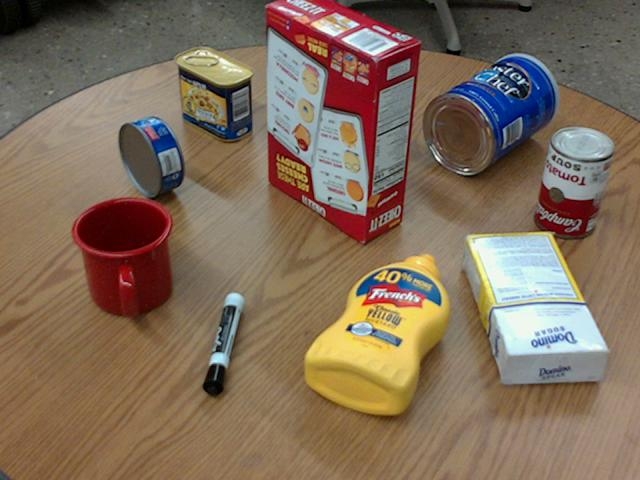cracker_box: (265, 0, 419, 241)
gelatin_box: (312, 64, 396, 121)
large_marker: (201, 292, 242, 395)
master_chef_can: (421, 53, 556, 173)
mug: (71, 197, 173, 317)
mustard_bottle: (303, 253, 448, 415)
potted_meat_can: (173, 48, 252, 140)
sugar_box: (460, 233, 609, 382)
tomato_soup_can: (532, 124, 612, 236)
tuna_fish_can: (118, 116, 182, 197)
